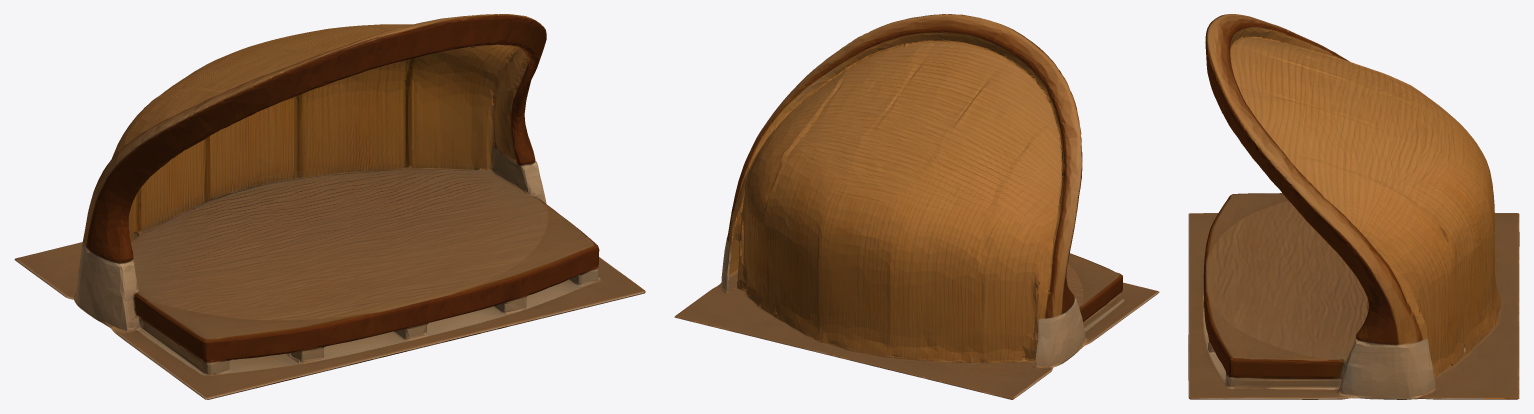
Rendered from room-03-stage-shell.glb.
The picture shows the model from 3 angles, left to right: view 1: azimuth 30°, elevation 25°; view 2: azimuth 150°, elevation 25°; view 3: azimuth 270°, elevation 25°; orthographic projection. The views are drawn at different scales.
Visible parts, largest first — view 1: textured_mesh.obj; view 2: textured_mesh.obj; view 3: textured_mesh.obj.
Boxes of the visible parts, bbox=[...] form: textured_mesh.obj: bbox=[14, 14, 645, 399]; textured_mesh.obj: bbox=[674, 14, 1159, 399]; textured_mesh.obj: bbox=[1188, 14, 1519, 399].
Bounding box in the file's own units: 5.91 × 4 × 4.45.
1 material, 1 textured.
